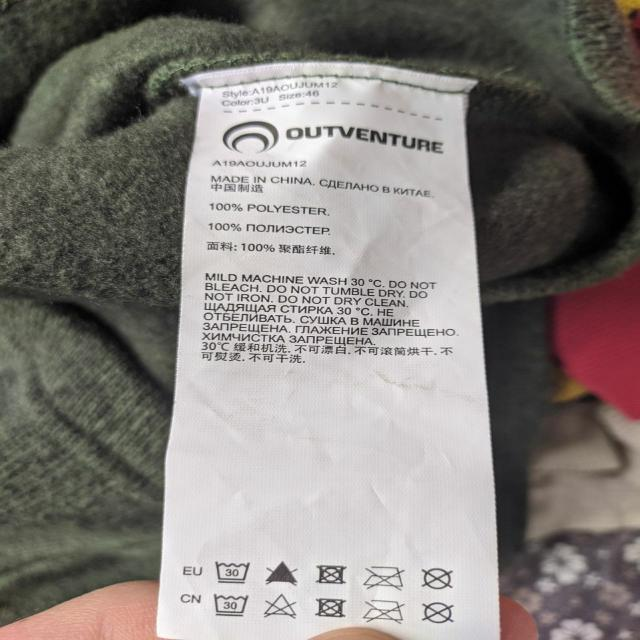30C: (214, 553, 255, 588), (211, 592, 252, 617)
DN_bleach: (265, 556, 301, 587), (263, 594, 298, 621)
DN_dry_clean: (419, 600, 459, 625), (421, 565, 457, 591)
DN_iron: (363, 563, 409, 592), (363, 597, 408, 624)
DN_tumble_dry: (313, 595, 351, 620), (313, 561, 348, 588)
